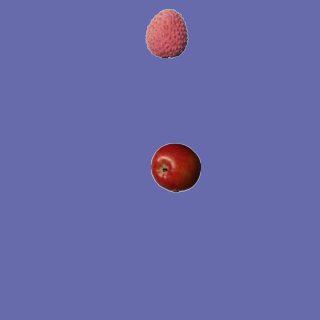Apple Braeburn: (150, 142, 200, 192)
Lychee: (141, 8, 191, 58)
